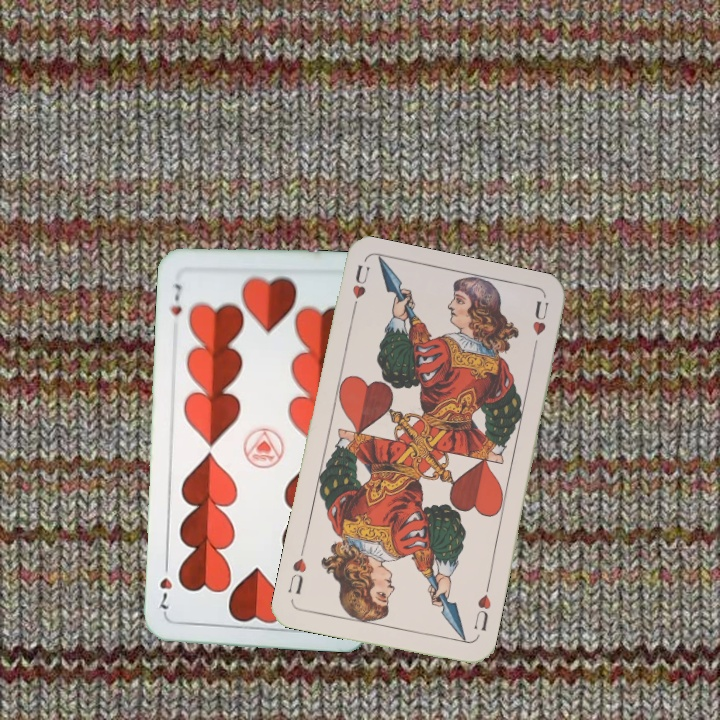H7: (165, 280, 184, 318)
HU: (347, 260, 372, 318), (469, 582, 494, 634)
